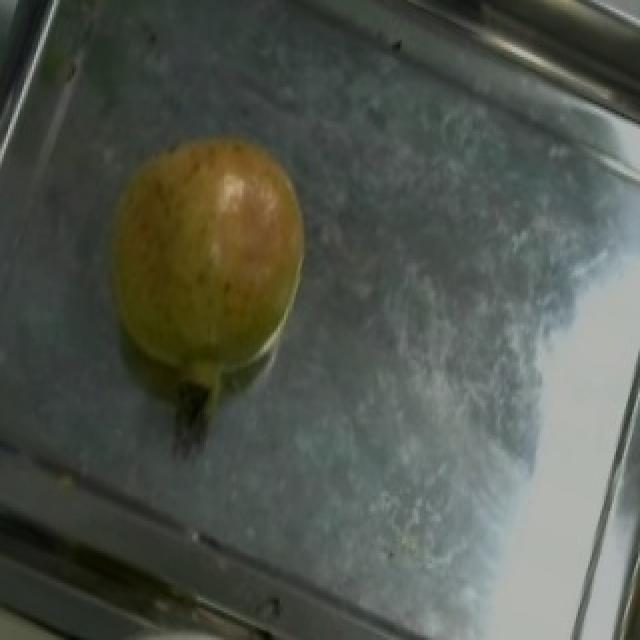fruit: (78, 99, 342, 375)
